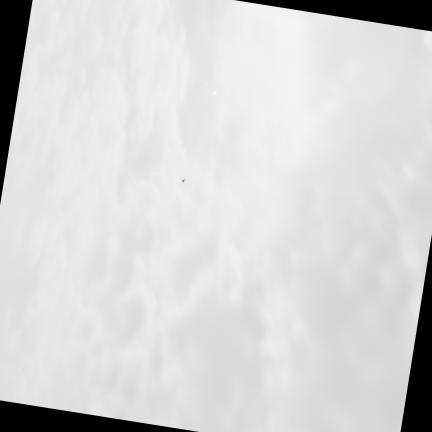Shahed: (180, 178, 186, 183)
